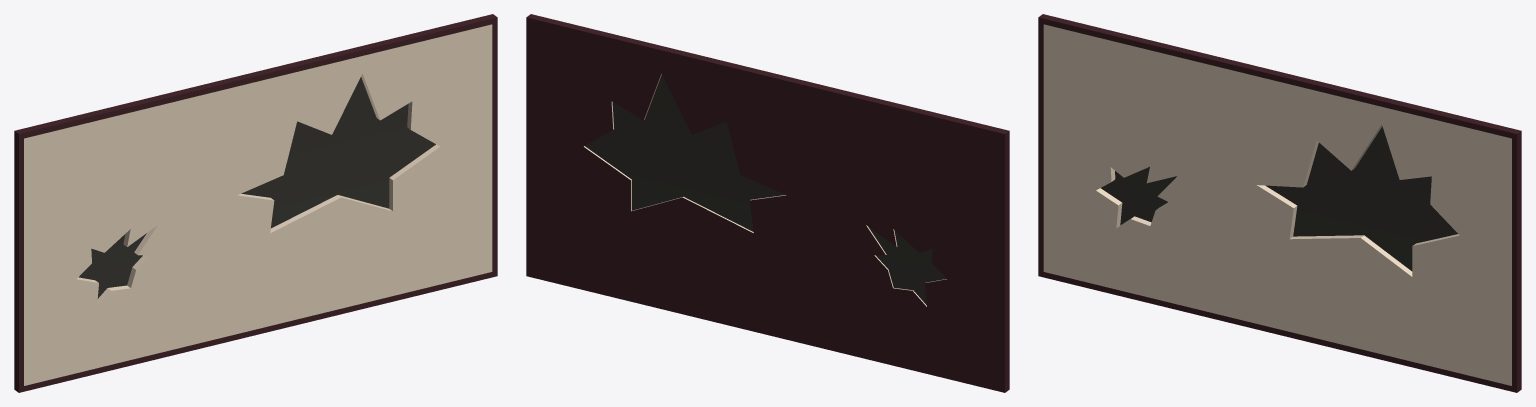
Rendered from window_broken.fbx.
The picture shows the model from 3 angles, left to right: view 1: azimuth 30°, elevation 25°; view 2: azimuth 150°, elevation 25°; view 3: azimuth 330°, elevation 25°; orthographic projection.
Visible parts, largest first — view 1: polySurface983; view 2: polySurface983; view 3: polySurface983.
Part boxes in pixels (x1,y1,x2,y2): polySurface983: (14,14,497,392); polySurface983: (526,14,1009,392); polySurface983: (1038,14,1521,392).
Bounding box in the file's own units: 35.35 × 18.27 × 0.5883.
1 material, 1 textured.
